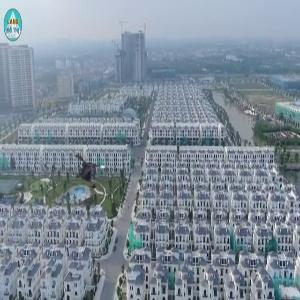drone: (65, 148, 116, 199)
